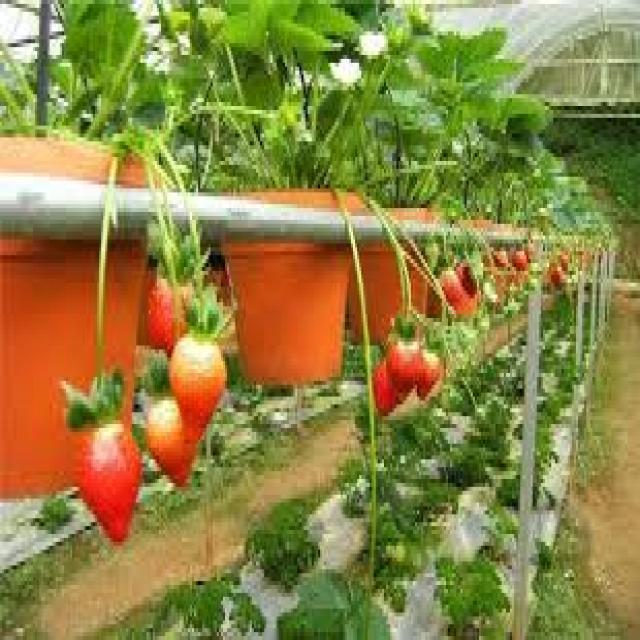Fruta sana: (79, 420, 141, 541), (168, 324, 228, 449), (147, 391, 191, 492), (152, 266, 196, 355), (366, 355, 404, 418), (391, 318, 416, 397), (414, 334, 440, 406), (436, 268, 464, 312), (459, 254, 482, 299), (494, 242, 510, 282)
